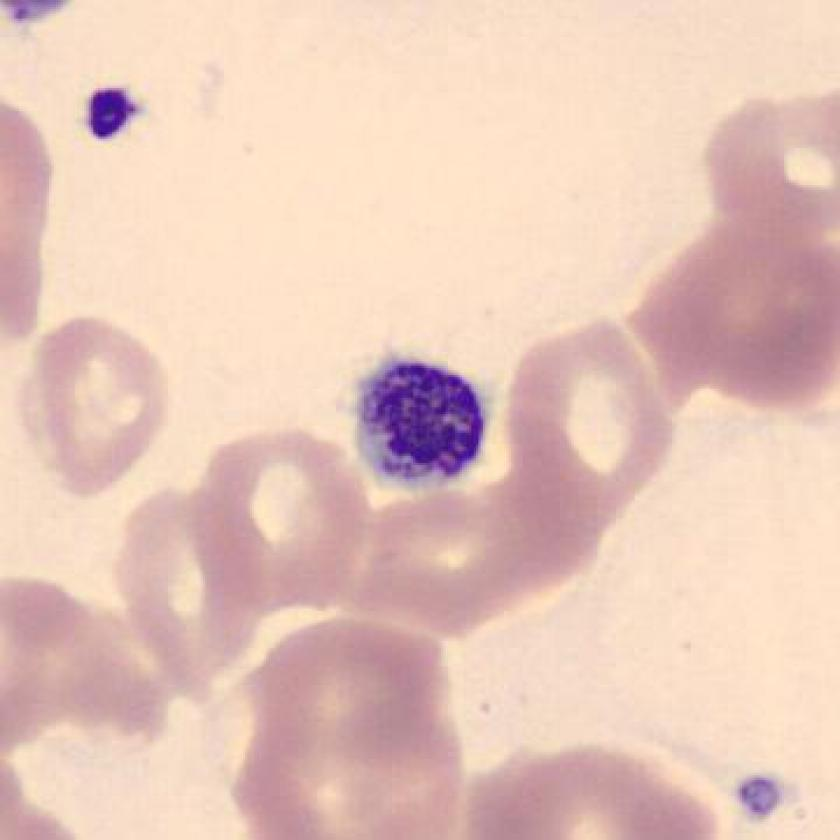platelets: (347, 351, 501, 499), (78, 82, 153, 151), (727, 765, 785, 827)
